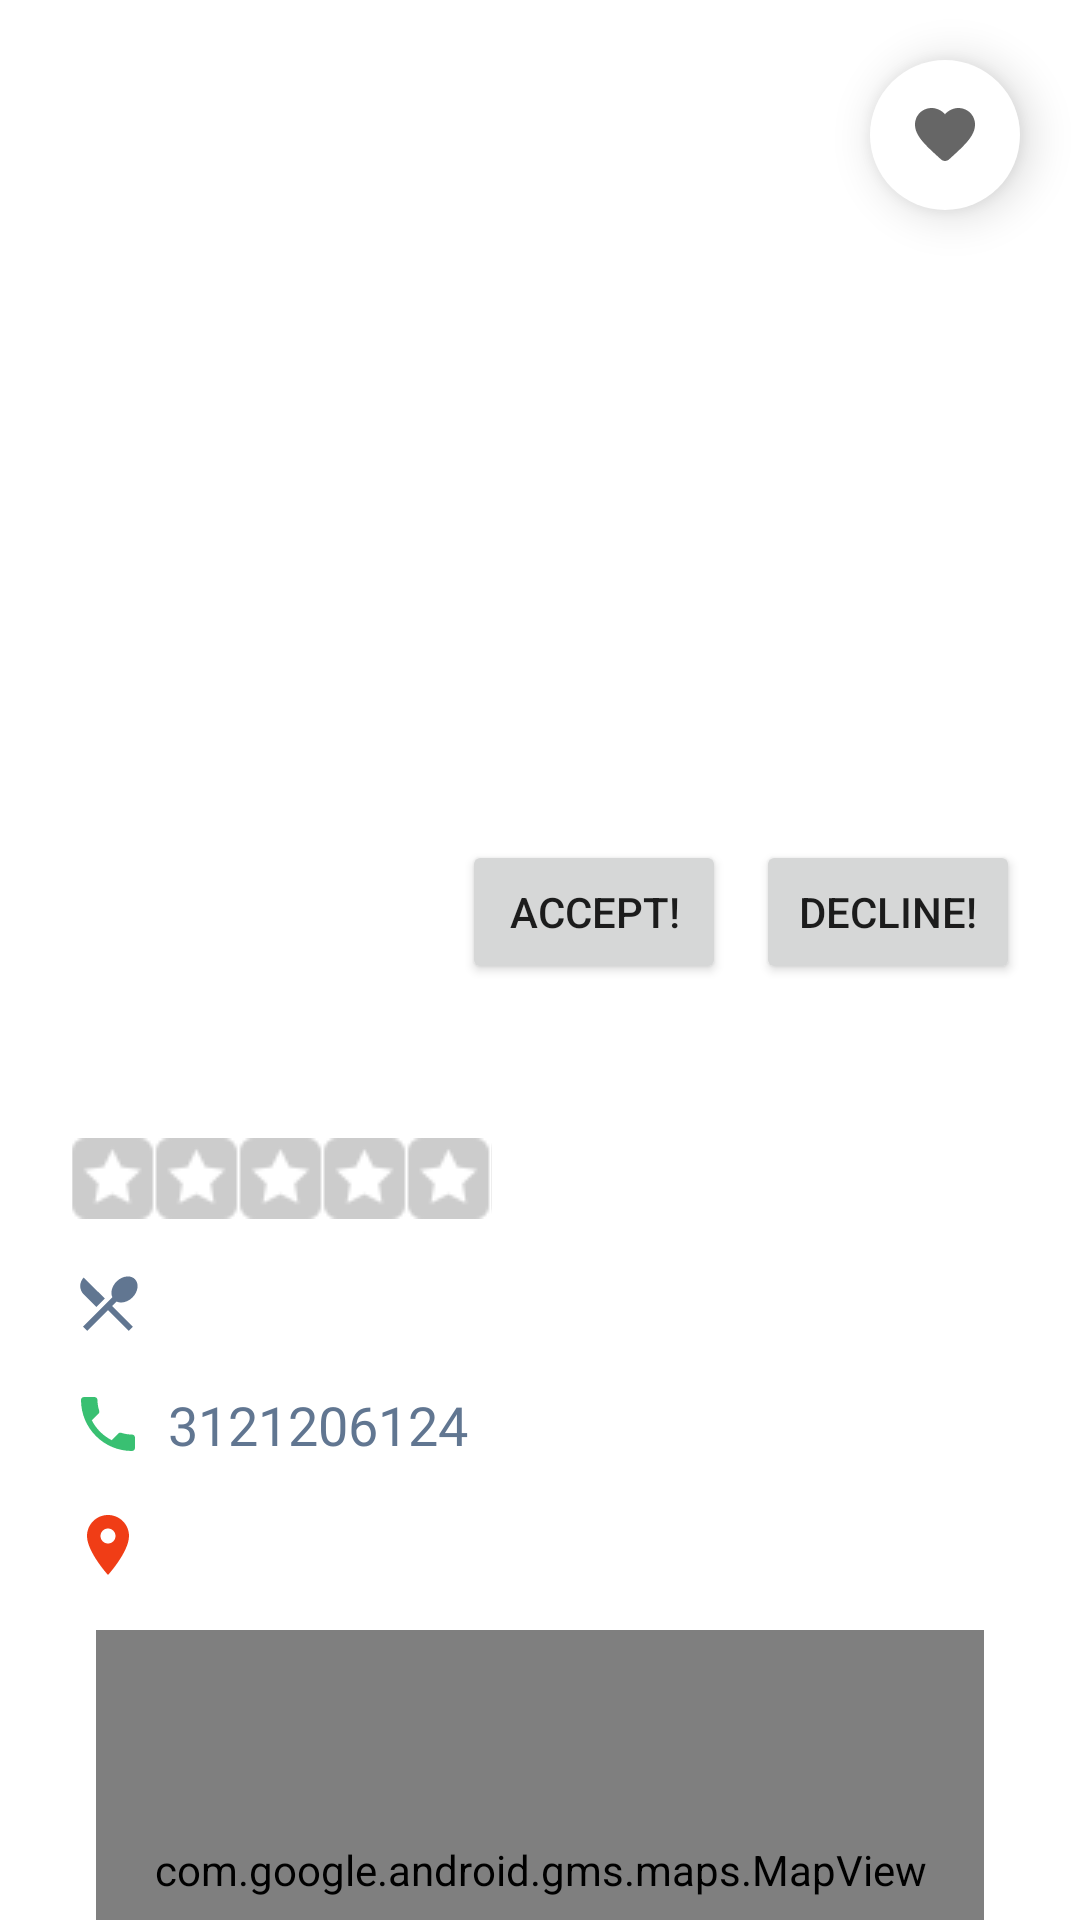

Icons on this 1080x1920 Android screen, each with its box as Rect(x1, y1, x2, y2):
favorite: Rect(915, 107, 1020, 201)
